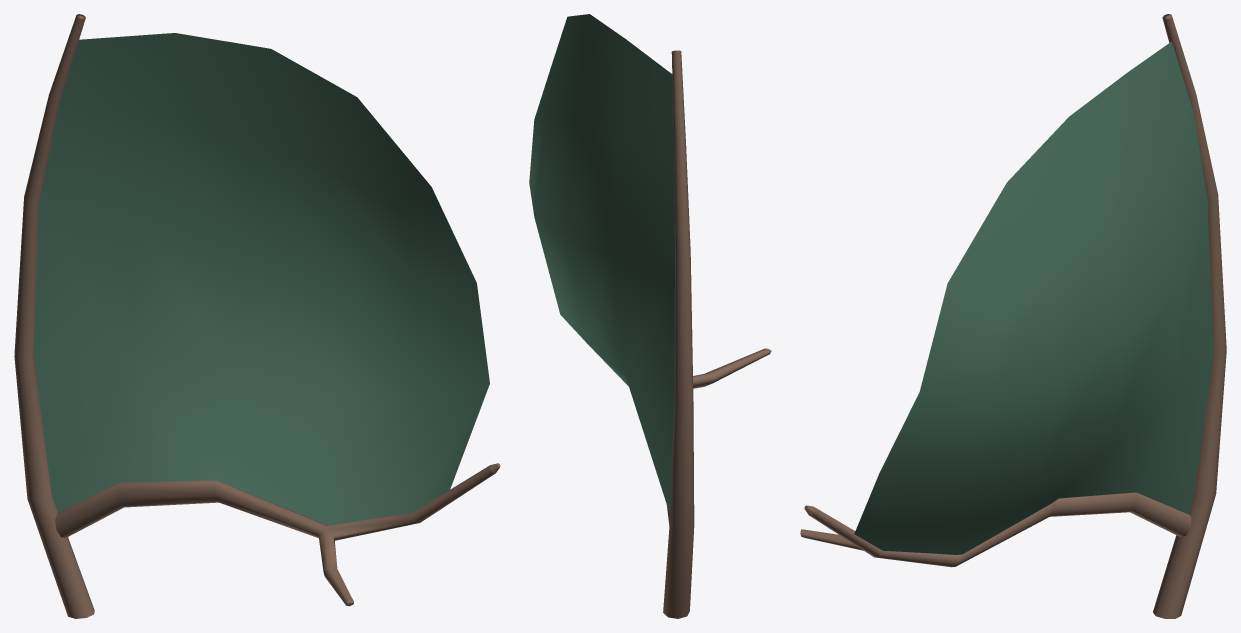
File: sail_right_left.fbx
3 views of the same model, side by side, from view 1: azimuth 30°, elevation 25°; view 2: azimuth 150°, elevation 25°; view 3: azimuth 270°, elevation 25° (orthographic). The views are drawn at different scales.
Visible parts, largest first — view 1: sail_geo, mast_geo, mast1_geo; view 2: sail_geo, mast_geo, mast1_geo; view 3: sail_geo, mast_geo, mast1_geo.
Boxes of the visible parts, bbox=[...] form: sail_geo: bbox=[33, 33, 489, 525]; mast_geo: bbox=[14, 14, 94, 618]; mast1_geo: bbox=[55, 463, 500, 606]; sail_geo: bbox=[529, 14, 674, 513]; mast_geo: bbox=[663, 50, 694, 618]; mast1_geo: bbox=[667, 348, 771, 524]; sail_geo: bbox=[854, 41, 1214, 554]; mast_geo: bbox=[1153, 14, 1226, 618]; mast1_geo: bbox=[800, 492, 1191, 567].
Size of the model in its own units: 91.44 by 167 by 108.
